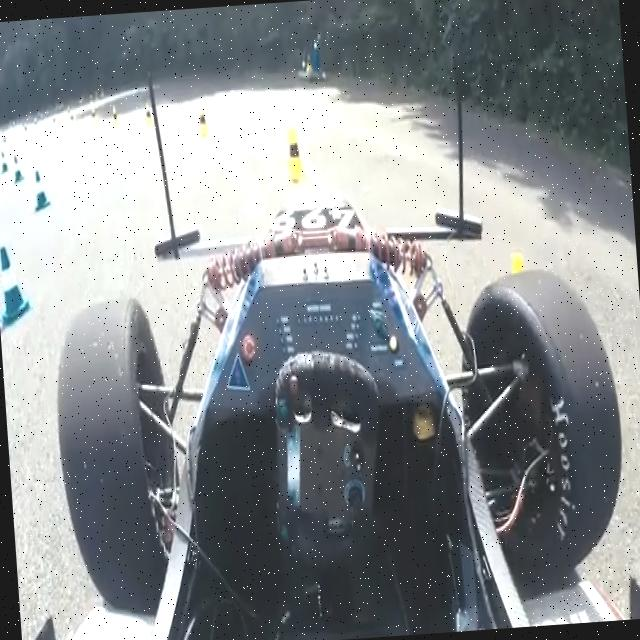blue_cone: (0, 245, 34, 328), (32, 169, 52, 213), (12, 154, 24, 184), (0, 149, 9, 174)
yellow_cone: (282, 127, 308, 184), (195, 104, 212, 139)
